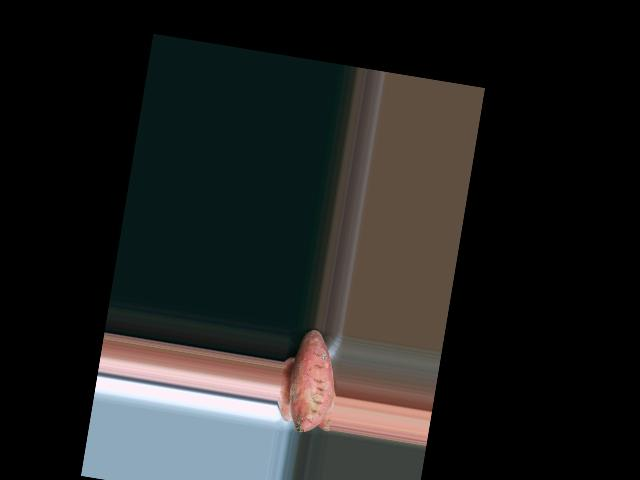sweet_potato: (286, 328, 339, 436)
